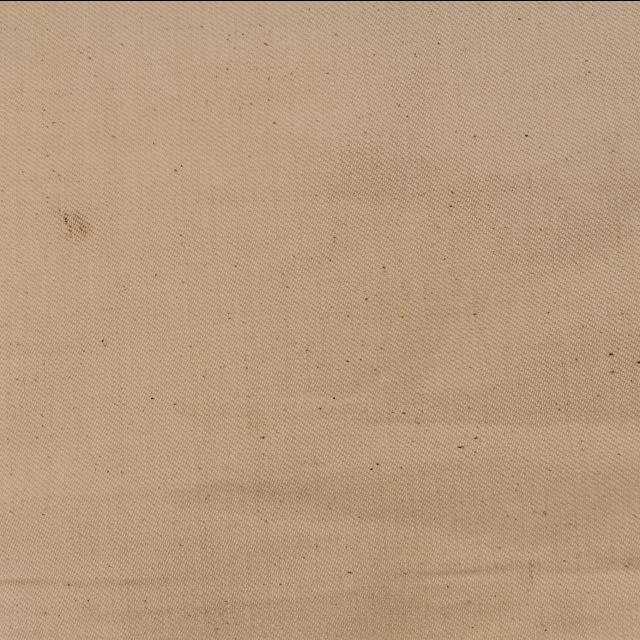taaaches: (38, 203, 108, 246)
